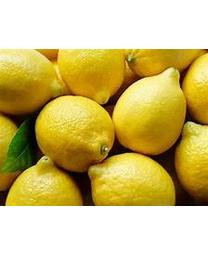lemon: (112, 66, 186, 155), (35, 95, 117, 173), (86, 152, 176, 207), (0, 50, 65, 115), (178, 121, 207, 198)
